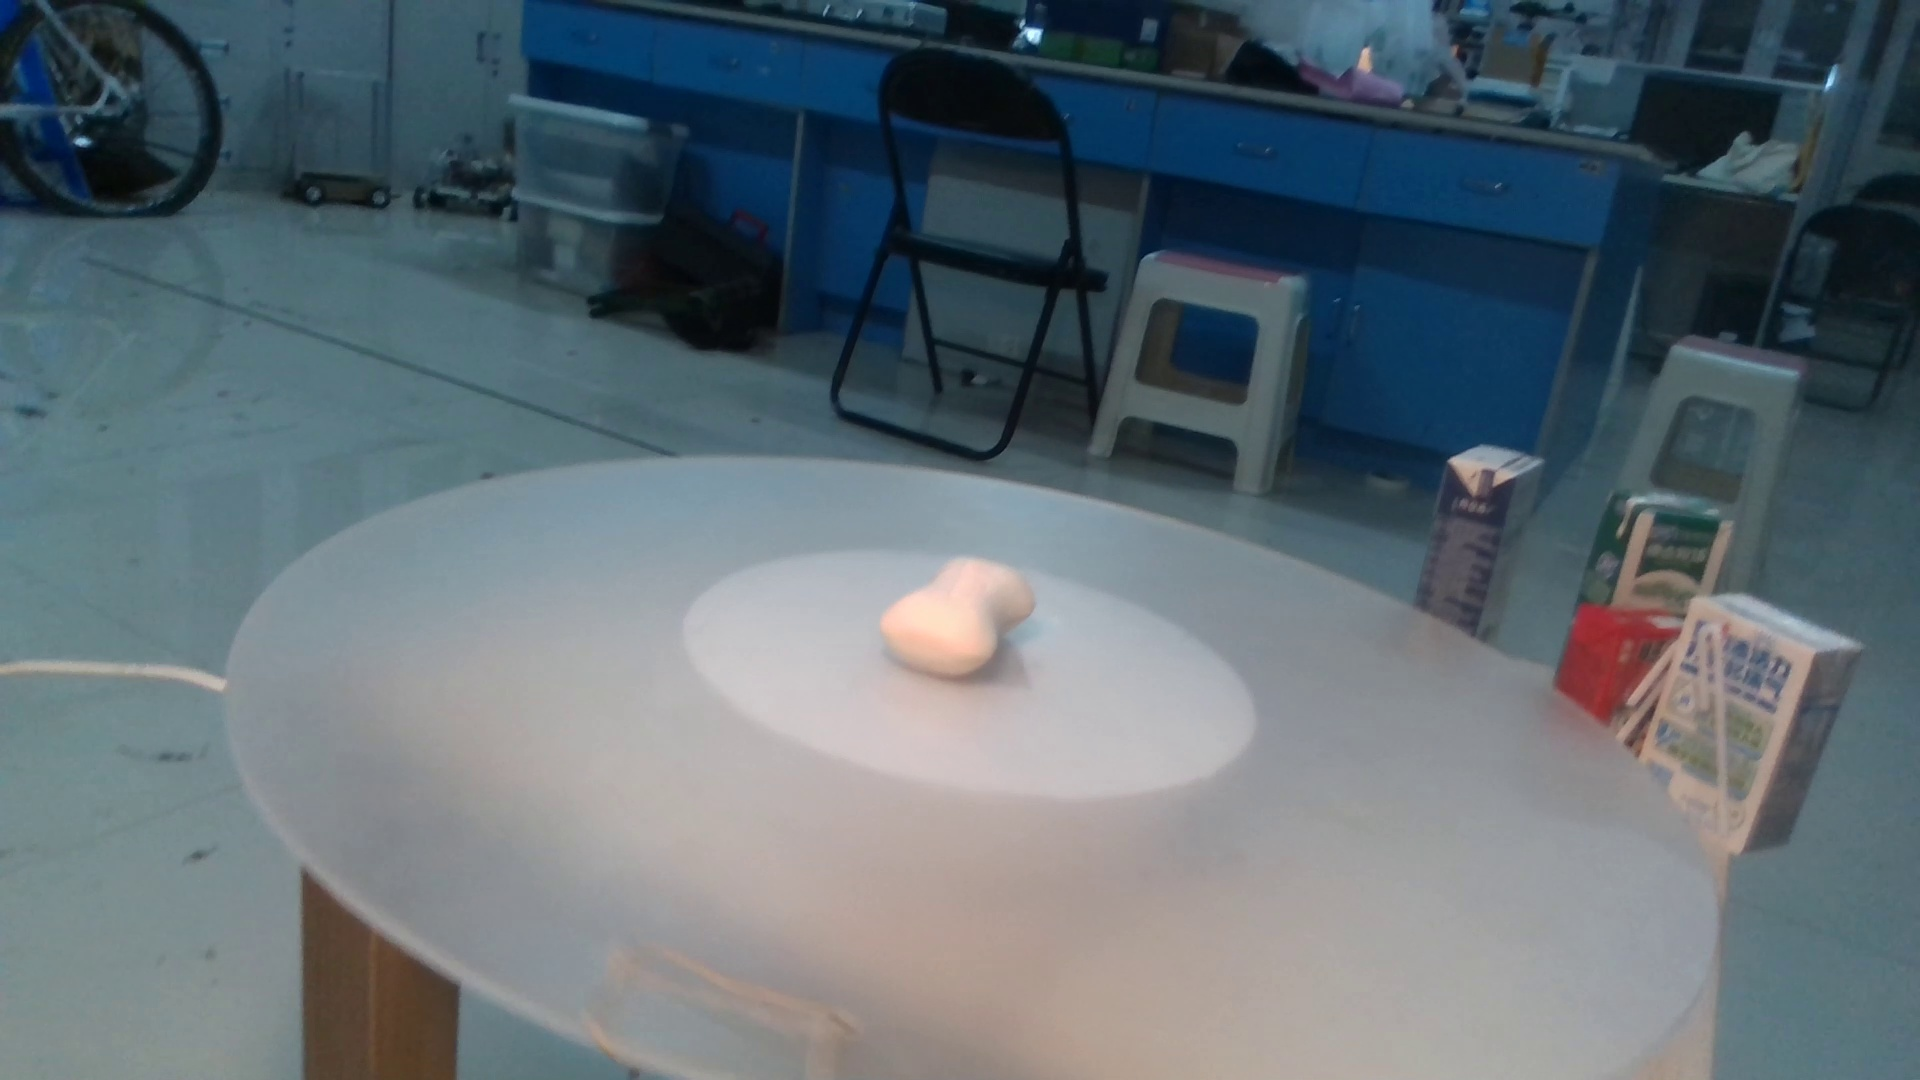CA003_1: (868, 541, 1051, 703)
